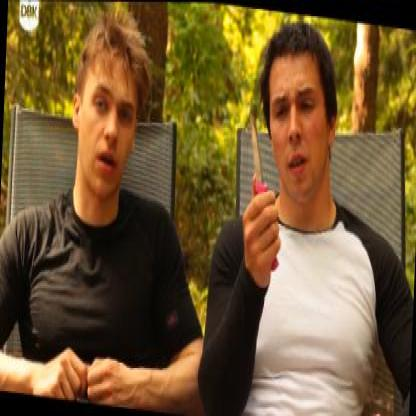knife: (240, 102, 286, 273)
